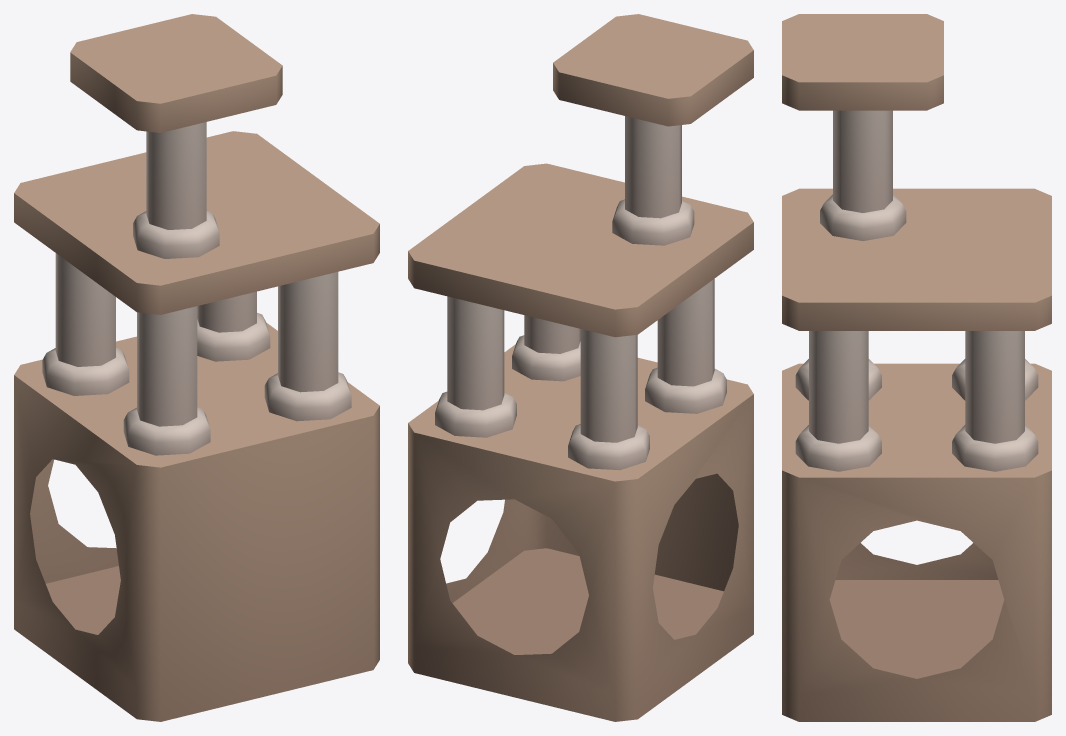
File: cat-tower-large.glb
3 views of the same model, side by side, from view 1: azimuth 30°, elevation 25°; view 2: azimuth 150°, elevation 25°; view 3: azimuth 270°, elevation 25° (orthographic). The views are drawn at different scales.
Visible parts, largest first — view 1: cat-tower-large; view 2: cat-tower-large; view 3: cat-tower-large.
Part boxes in pixels (left/top/right/bottom): cat-tower-large: left=14, top=14, right=379, bottom=721; cat-tower-large: left=408, top=14, right=753, bottom=721; cat-tower-large: left=782, top=14, right=1051, bottom=721.
Bounding box in the file's own units: 0.4 × 0.9721 × 0.4.
